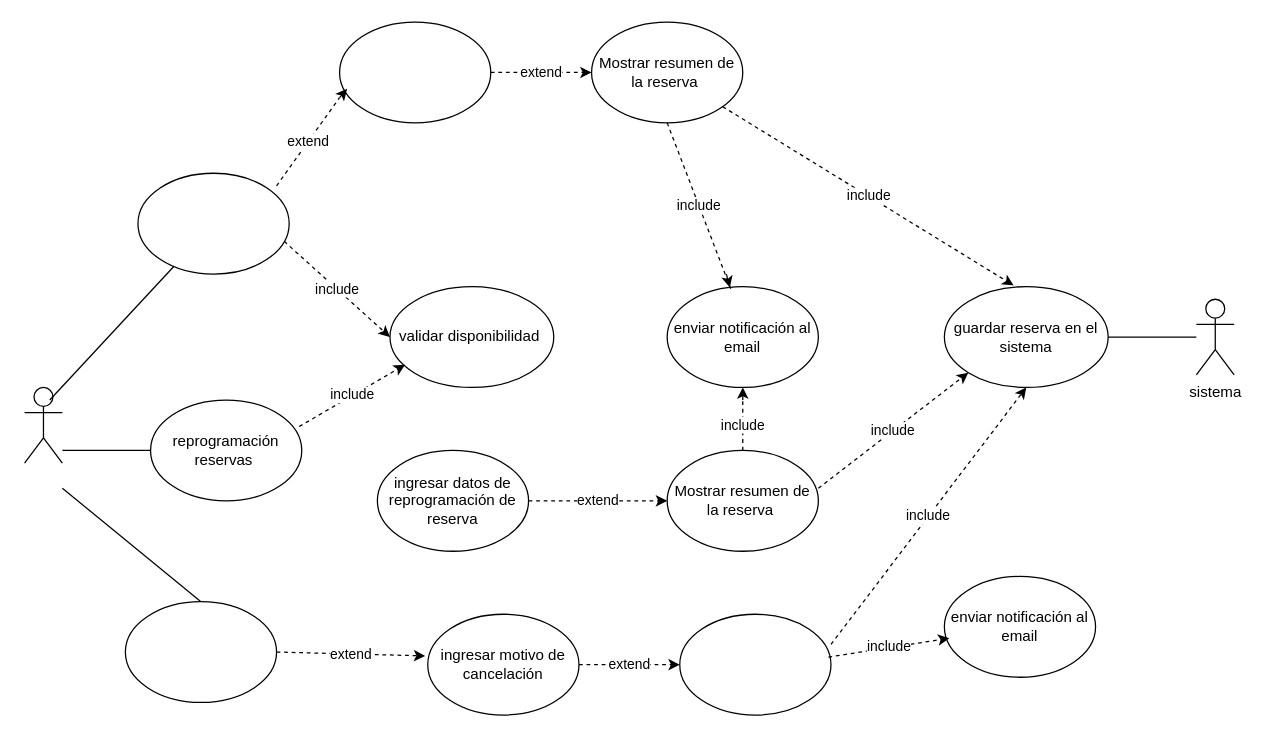
The diagram is 1263 pixels wide and 737 high, and some of its shapes have lost their labels. Here are the shapes that lost their labels. From the top down, the box of each, then its label:
(338, 21, 491, 123): ingresar datos de reserva
(137, 172, 289, 274): agendamiento de reservas
(23, 386, 62, 463): cliente
(124, 600, 277, 702): cancelación reserva
(679, 613, 831, 715): mostrar resumen de la cancelación de la reserva
